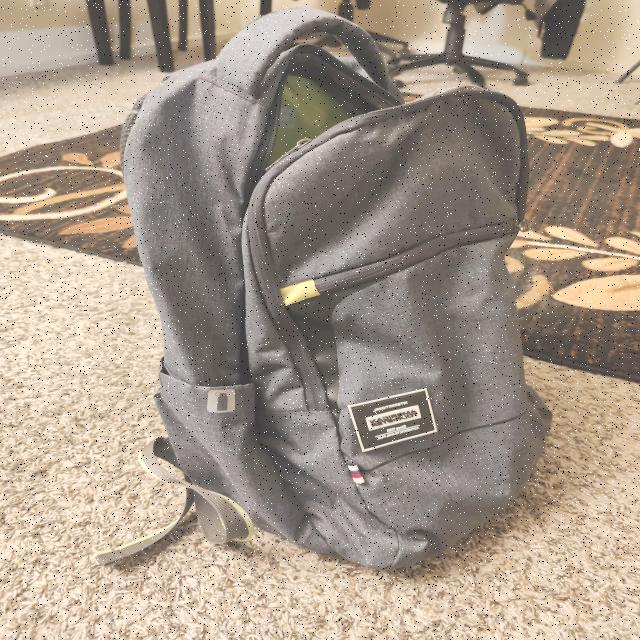bag: (190, 96, 493, 558)
